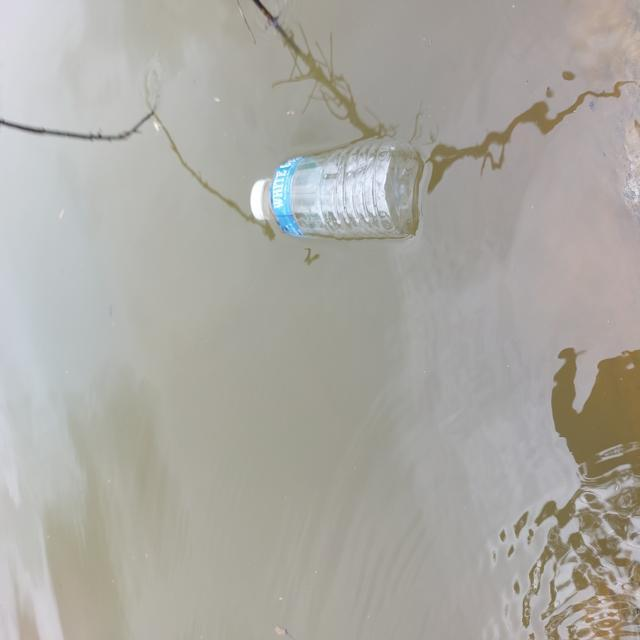waterbottle: (247, 145, 429, 243)
